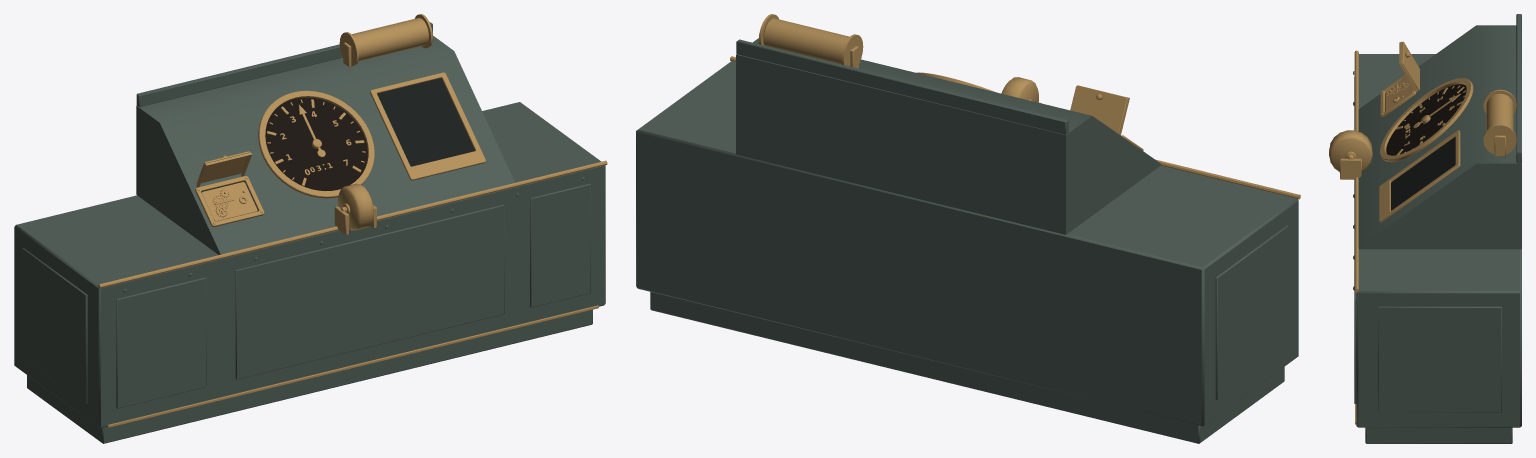
Rendered from master_desk.glb.
3 renders of one model, left to right at view 1: azimuth 30°, elevation 25°; view 2: azimuth 150°, elevation 25°; view 3: azimuth 270°, elevation 25°, orthographic. The views are drawn at different scales.
Visible parts, largest first — view 1: master_desk, chart_paper, IA_chronometer, IA_scrub, chrono_plate; view 2: master_desk, chrono_plate, IA_scrub; view 3: master_desk, chart_paper, IA_scrub, chrono_plate, IA_chronometer.
Part boxes in pixels (left/top/right/bottom): master_desk: left=14, top=14, right=607, bottom=443; chart_paper: left=377, top=78, right=474, bottom=166; IA_chronometer: left=202, top=182, right=257, bottom=221; IA_scrub: left=337, top=183, right=373, bottom=230; chrono_plate: left=196, top=151, right=251, bottom=187; master_desk: left=636, top=14, right=1300, bottom=443; chrono_plate: left=1070, top=85, right=1129, bottom=135; IA_scrub: left=1001, top=77, right=1038, bottom=102; master_desk: left=1340, top=14, right=1521, bottom=443; chart_paper: left=1391, top=136, right=1455, bottom=210; IA_scrub: left=1329, top=130, right=1372, bottom=172; chrono_plate: left=1399, top=41, right=1419, bottom=92; IA_chronometer: left=1385, top=77, right=1411, bottom=110.
Bounding box in the file's own units: 3.12 × 1.65 × 1.06.
